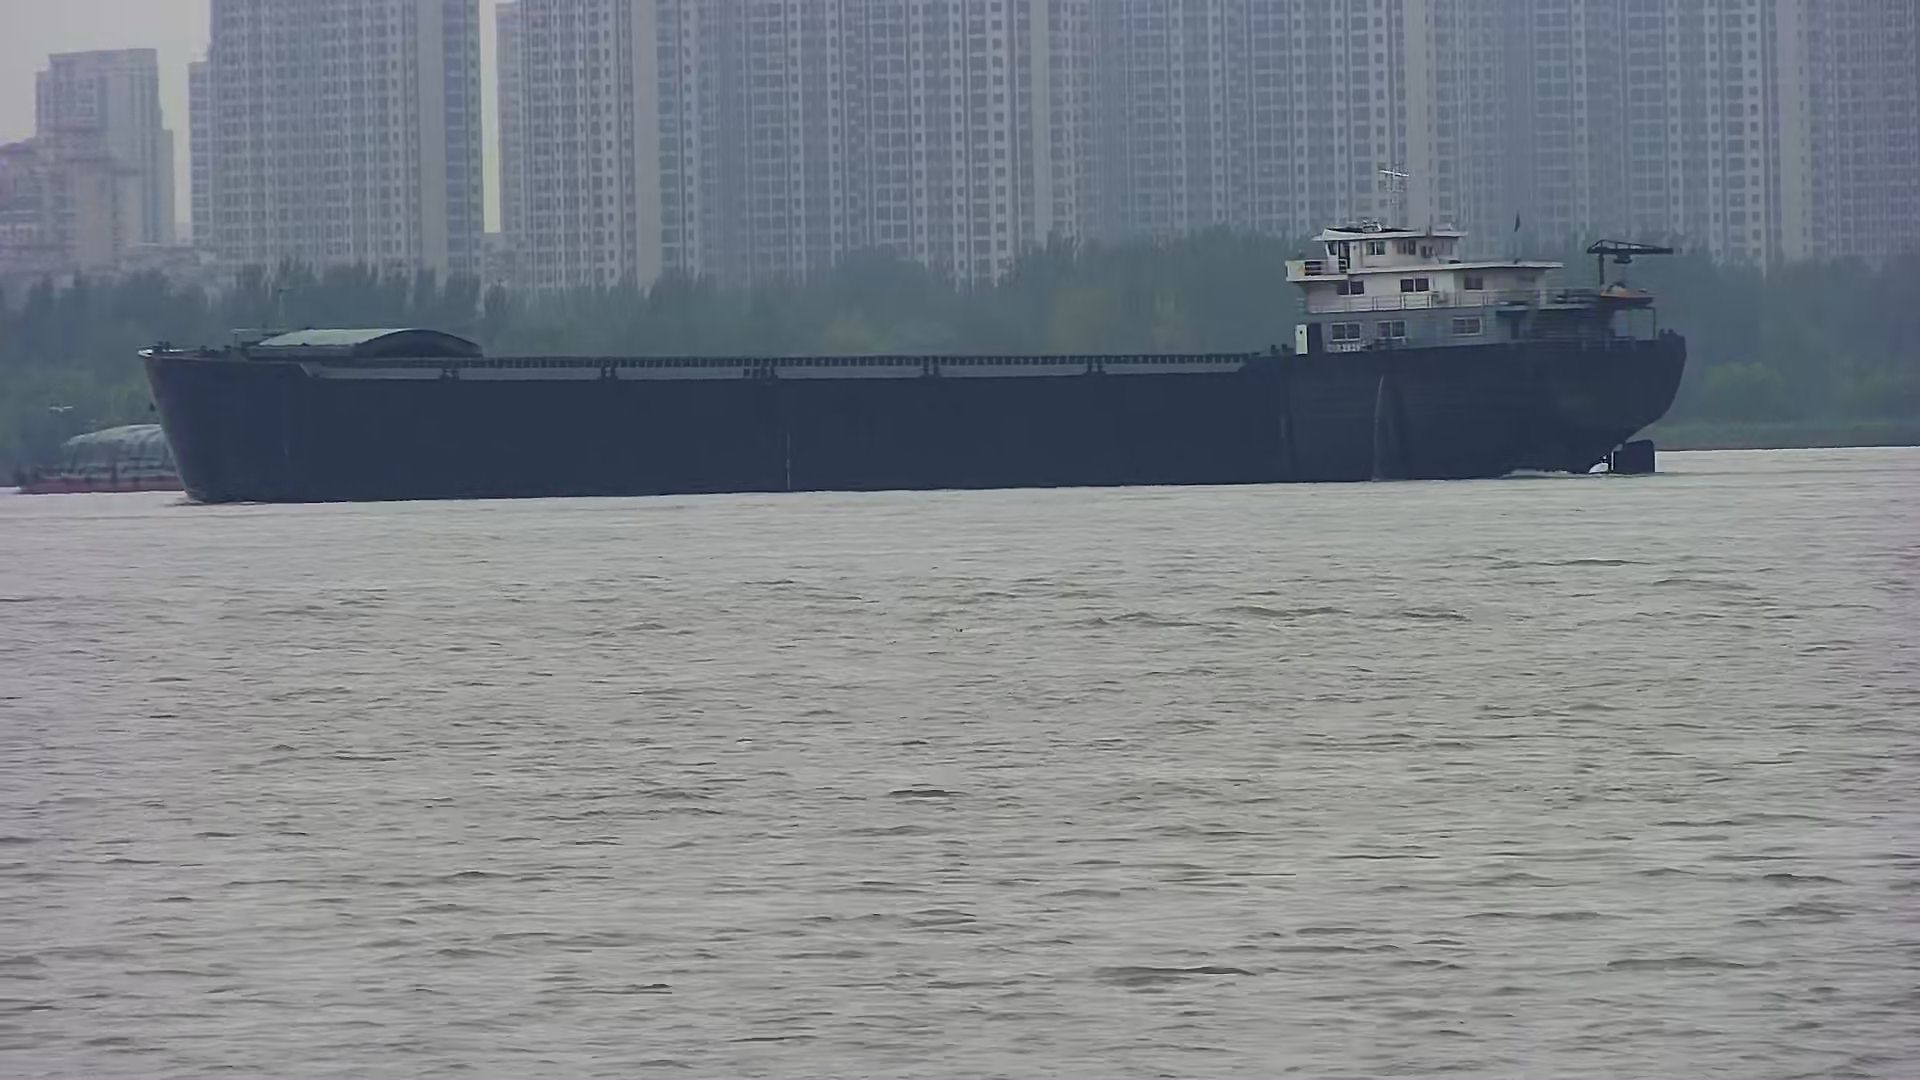ship: (131, 199, 1689, 504), (13, 411, 187, 496)
